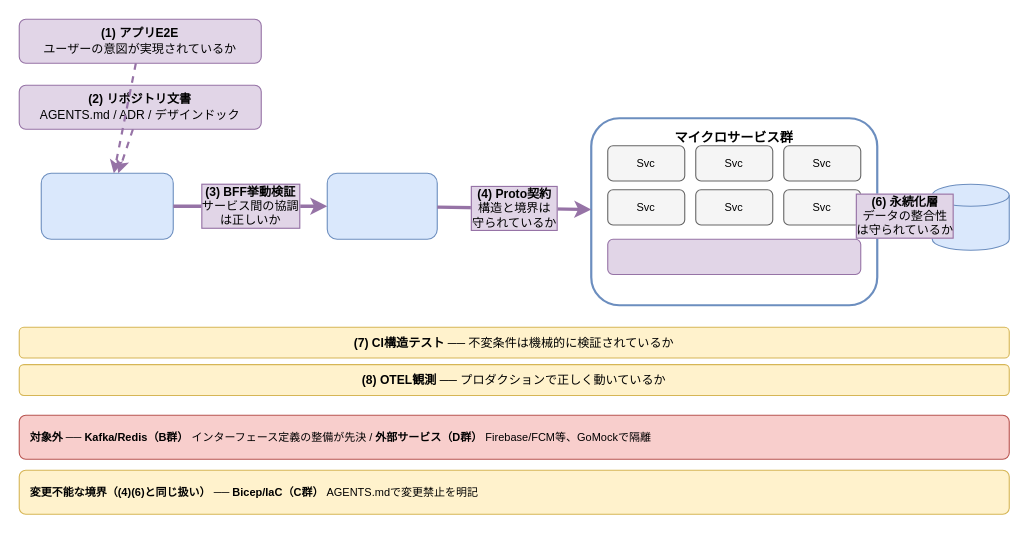
Some shapes in this 1029 by 534 pixel diagram are drawn without their labels. The centre of each missing label's shape, as x and y in pixels:
(5) サービス挙動テスト ── 単一サービスの挙動は正しいか: [734,256]
BFF: [381,205]
DB: [970,216]
Flutter: [106,205]
